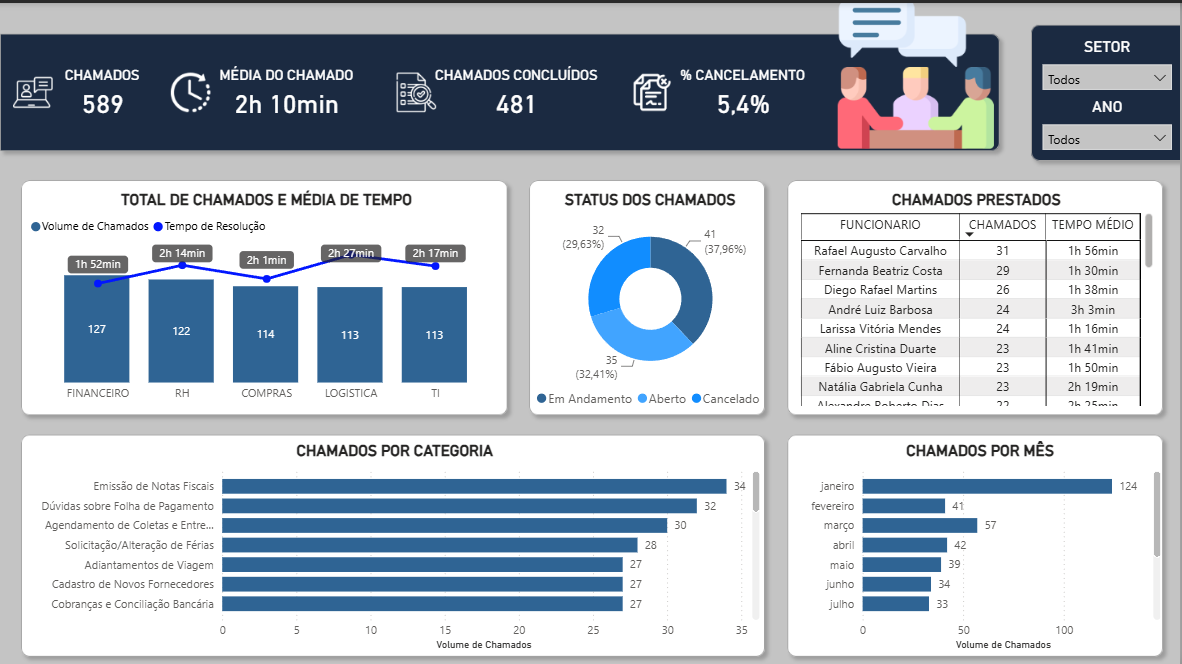

This screenshot's page, from the dashboard's own definition file:
{"tool":"powerbi","page":{"name":"Página 1","canvas":[1280,720],"ordinal":0},"visuals":[{"type":"card","title":"MÉDIA DO CHAMADO","fields":{"Values":["_medidas.Media_chamado"]},"box":[249.6,80.8,178.7,60.1],"z":0},{"type":"tableEx","title":"CHAMADOS PRESTADOS","fields":{"Values":["core dm_funcionario.funcionario","_medidas.Total_chamados","_medidas.Media_chamado"]},"box":[862.7,203.8,393.2,237.9],"z":1000},{"type":"donutChart","title":"STATUS DOS CHAMADOS","fields":{"Category":["core ft_chamado.status"],"Y":["_medidas.Total_chamados"]},"box":[572.8,203.8,264.8,244.2],"z":2000},{"type":"barChart","title":"CHAMADOS POR MÊS","fields":{"Category":["core ft_chamado.datacadastro.Variation.Hierarquia de datas.Mês"],"Y":["_medidas.Total_chamados"]},"box":[862.7,474.9,401.3,231.6],"z":3000},{"type":"card","title":"% CANCELAMENTO","fields":{"Values":["_medidas.Chamados_Cancelados"]},"box":[530.6,80.8,156.2,60.1],"z":4000},{"type":"clusteredBarChart","title":"CHAMADOS POR CATEGORIA","fields":{"Category":["core dm_categoria_chamado.categoria"],"Y":["_medidas.Total_chamados"]},"box":[27.8,474.9,800.8,231.6],"z":5000},{"type":"lineClusteredColumnComboChart","title":"TOTAL DE CHAMADOS E MÉDIA DE TEMPO","fields":{"Category":["core dm_setor.setor"],"Y":["_medidas.Total_chamados"],"Y2":["_medidas.Media Tempo Resolucao (Minutos)"]},"box":[27.8,203.8,522.5,237.9],"z":6000},{"type":"card","title":"CHAMADOS","fields":{"Values":["_medidas.Total_chamados"]},"box":[59.3,80.8,104.1,60.1],"z":7000},{"type":"slicer","title":"SETOR","fields":{"Values":["core dm_setor.setor"]},"box":[1120.4,37.7,159.8,58.4],"z":8000},{"type":"slicer","title":"ANO","fields":{"Values":["core ft_chamado.datacadastro.Variation.Hierarquia de datas.Ano"]},"box":[1120.4,103.2,159.8,59.3],"z":9000}]}

Visuals, with their boxes in screenshot pixels (x1, y1, x2, y2), scaled from the page's 1280x720 canvas onto the 1182x664 screenshot:
"MÉDIA DO CHAMADO" card: box(230, 75, 396, 130)
"CHAMADOS PRESTADOS" tableEx: box(797, 188, 1160, 407)
"STATUS DOS CHAMADOS" donutChart: box(529, 188, 773, 413)
"CHAMADOS POR MÊS" barChart: box(797, 438, 1167, 652)
"% CANCELAMENTO" card: box(490, 75, 634, 130)
"CHAMADOS POR CATEGORIA" clusteredBarChart: box(26, 438, 765, 652)
"TOTAL DE CHAMADOS E MÉDIA DE TEMPO" lineClusteredColumnComboChart: box(26, 188, 508, 407)
"CHAMADOS" card: box(55, 75, 151, 130)
"SETOR" slicer: box(1035, 35, 1181, 89)
"ANO" slicer: box(1035, 95, 1181, 150)
